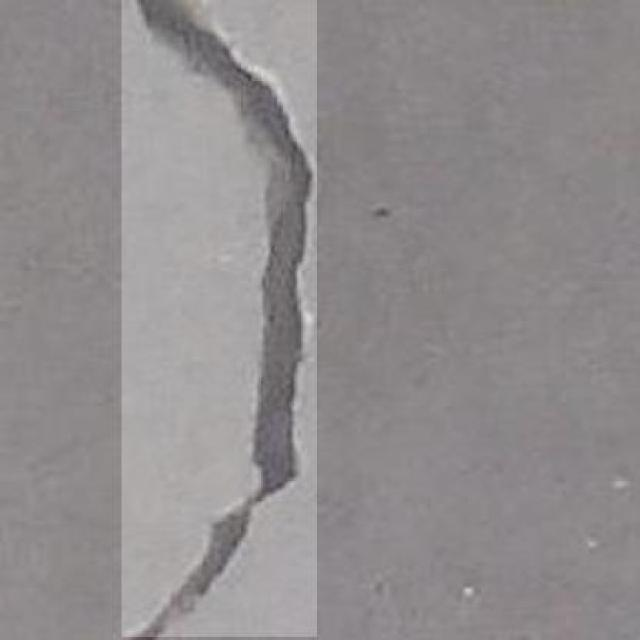Crack: (111, 2, 335, 640)
